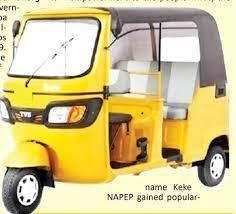keke: (2, 5, 232, 214)
